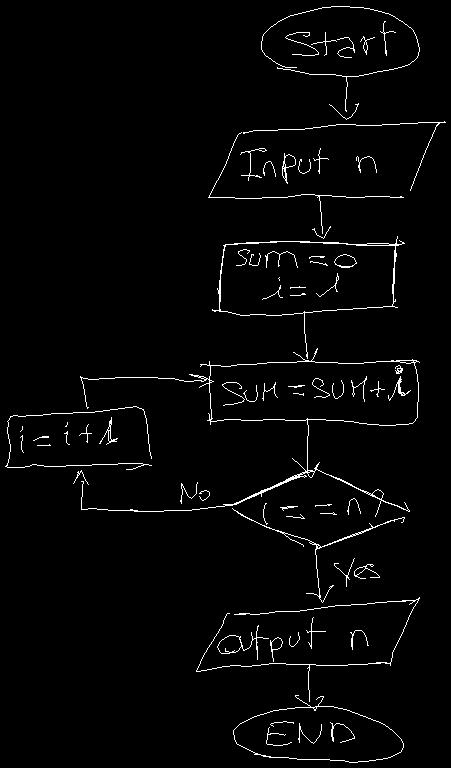arrow: (73, 470, 236, 511), (80, 374, 213, 408), (292, 418, 319, 477), (306, 544, 333, 602), (295, 664, 323, 710), (329, 76, 358, 119), (293, 311, 317, 361), (312, 195, 330, 238)
data: (208, 121, 445, 198), (196, 597, 419, 671)
decision: (227, 468, 409, 549)
process: (212, 236, 404, 315), (200, 359, 419, 425), (5, 406, 151, 469)
terminator: (261, 6, 419, 76), (233, 706, 403, 762)
text: (222, 365, 410, 405), (217, 617, 368, 661), (236, 249, 356, 299), (240, 148, 376, 183), (261, 489, 383, 527), (285, 21, 395, 57), (20, 417, 117, 452), (266, 721, 354, 745), (334, 558, 379, 586), (180, 482, 209, 503)
